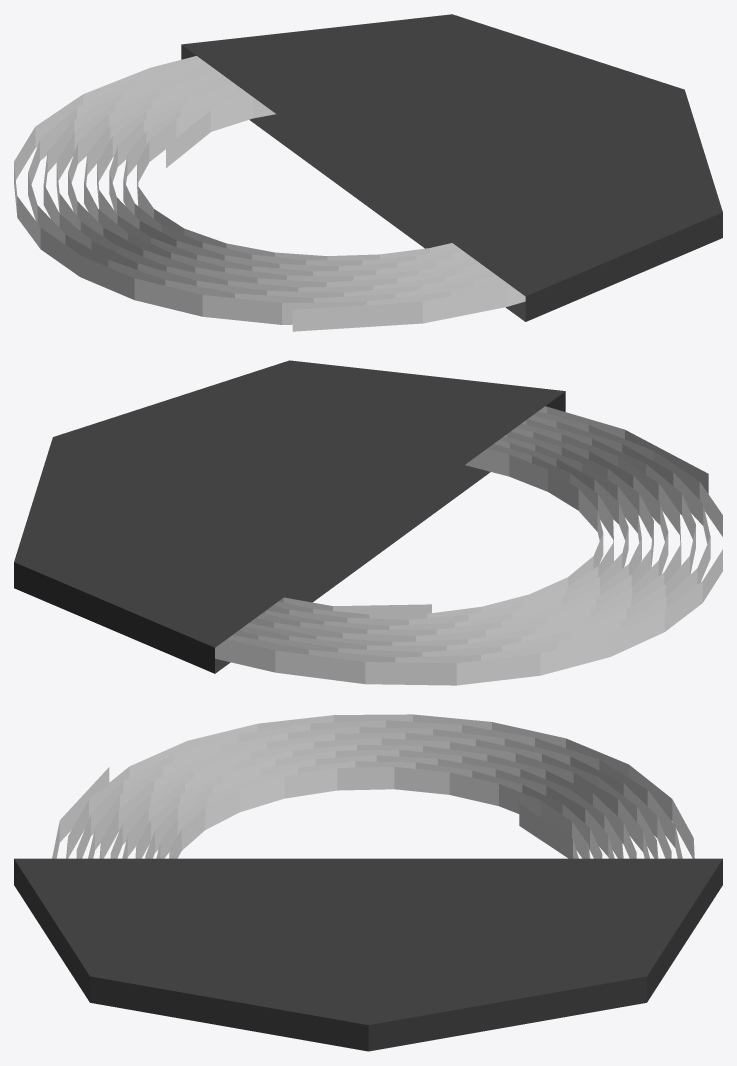
Rendered from LEDStrip.fbx.
3 views of the same model, one above another, from view 1: azimuth 30°, elevation 25°; view 2: azimuth 150°, elevation 25°; view 3: azimuth 270°, elevation 25° (orthographic). The views are drawn at different scales.
Visible parts, largest first — view 1: NurbsCurve; view 2: NurbsCurve; view 3: NurbsCurve.
Part boxes in pixels (x1=…): NurbsCurve: x1=14, y1=14, x2=722, y2=331; NurbsCurve: x1=14, y1=360, x2=722, y2=685; NurbsCurve: x1=14, y1=714, x2=722, y2=1051.
Size of the model in its own units: 34.41 by 1.35 by 32.98.
